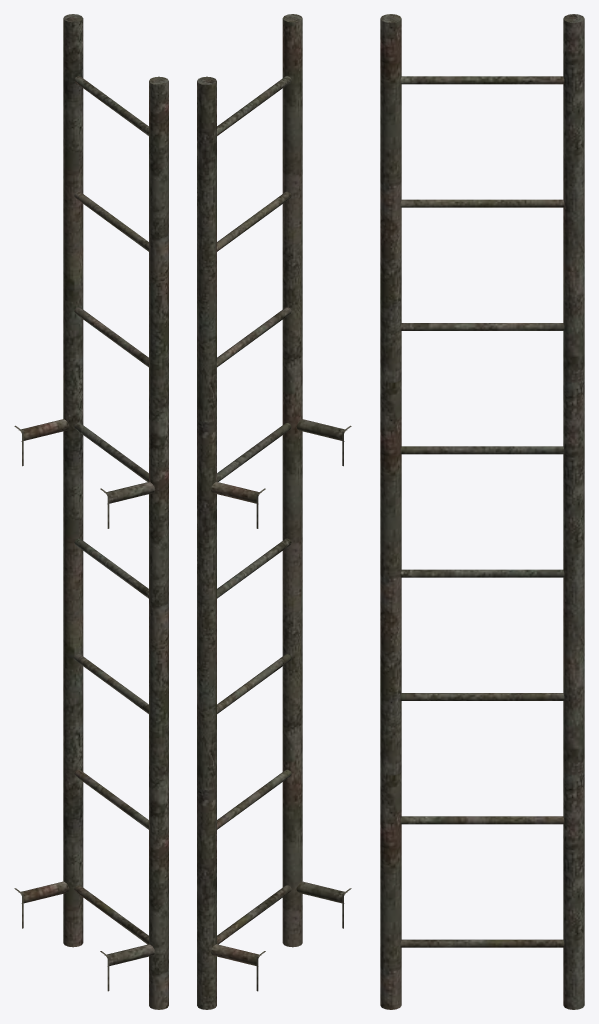
File: metalladder002.glb
The picture shows the model from 3 angles, left to right: view 1: azimuth 30°, elevation 25°; view 2: azimuth 150°, elevation 25°; view 3: azimuth 270°, elevation 25°; orthographic projection. The views are drawn at different scales.
Parts seen in each view (by area): view 1: 0_metalladder002; view 2: 0_metalladder002; view 3: 0_metalladder002.
Boxes of the visible parts, x1=… form: 0_metalladder002: x1=14, y1=14, x2=168, y2=1009; 0_metalladder002: x1=197, y1=14, x2=351, y2=1009; 0_metalladder002: x1=380, y1=14, x2=584, y2=1009.
Bounding box in the file's own units: 0.2349 × 3.25 × 0.6096.
Materials: 1 (1 with a texture image).
